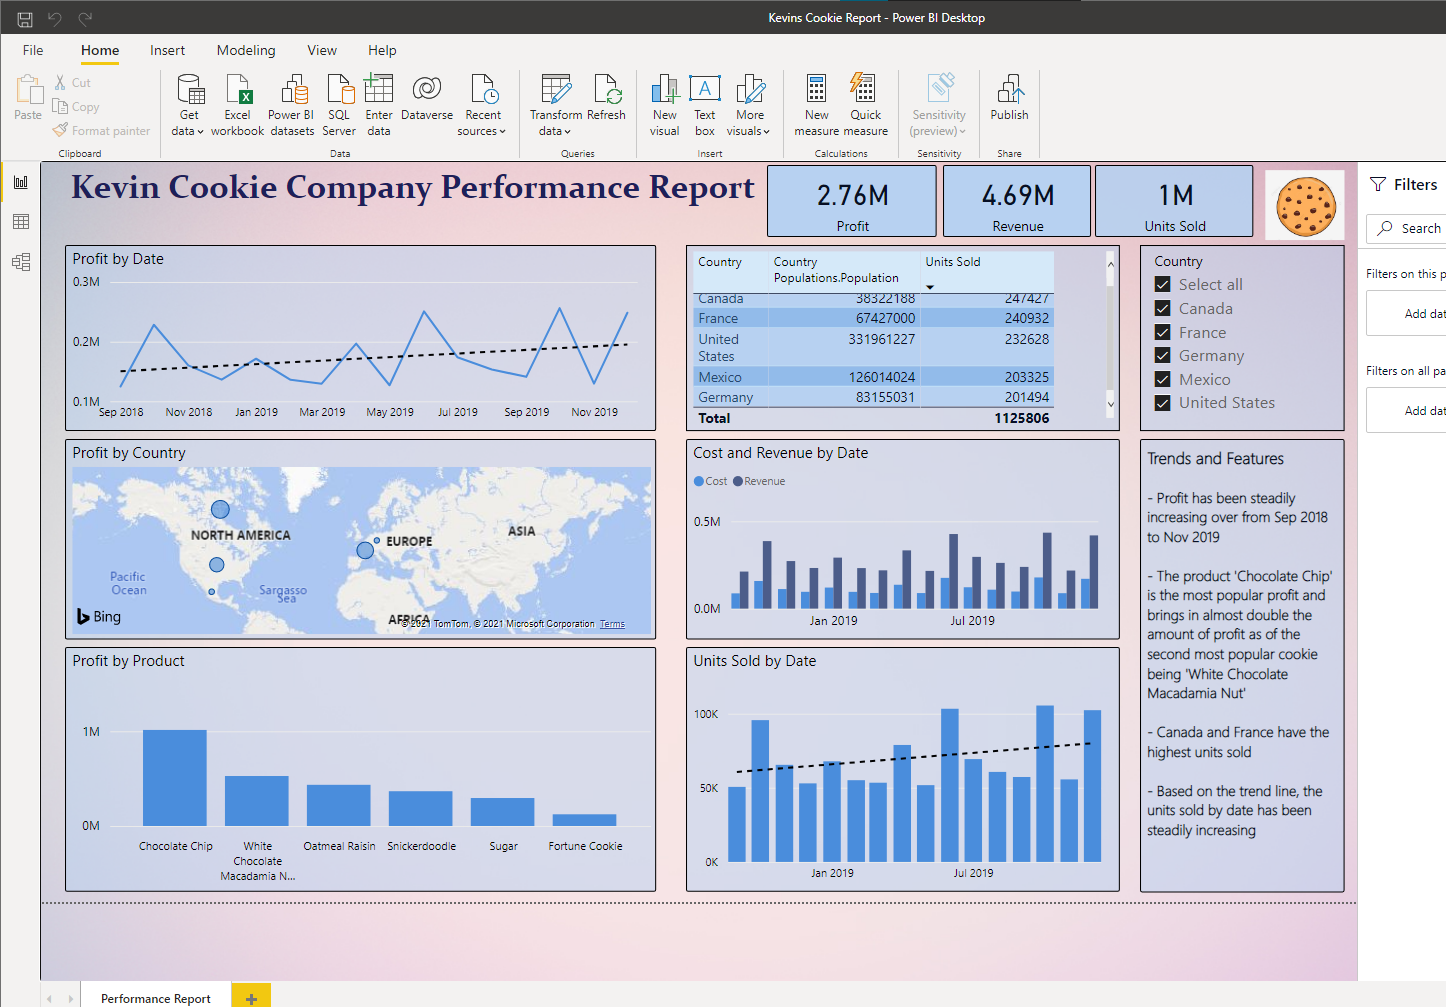

What the dashboard file says about the page in this screenshot:
{"tool":"powerbi","page":{"name":"Performance Report","canvas":[1280,720],"ordinal":0},"visuals":[{"type":"textbox","box":[23.3,0,699.3,70],"z":0},{"type":"lineChart","fields":{"Category":["Cookie Sales.Date"],"Y":["Cookie Sales.Profit"]},"box":[23.3,80.7,574.8,180.9],"z":1000},{"type":"map","fields":{"Category":["Cookie Sales.Country"],"Size":["Cookie Sales.Profit"]},"box":[23.3,269.4,574.8,194.5],"z":2000},{"type":"tableEx","fields":{"Values":["Cookie Sales.Country","Cookie Sales.Country Populations.Population","Cookie Sales.Units Sold"]},"box":[627.4,80.7,422.1,180.9],"z":3000},{"type":"clusteredColumnChart","fields":{"Category":["Cookie Sales.Product"],"Y":["Cookie Sales.Profit"]},"box":[23.3,471.7,574.8,238.3],"z":4000},{"type":"slicer","fields":{"Values":["Cookie Sales.Country"]},"box":[1068.9,80.7,199.4,180.9],"z":5000},{"type":"clusteredColumnChart","fields":{"Y":["Cookie Sales.Units Sold"],"Category":["Cookie Sales.Date"]},"box":[627.4,471.7,422.1,238.3],"z":6000},{"type":"clusteredColumnChart","fields":{"Y":["Cookie Sales.Cost","Cookie Sales.Revenue"],"Category":["Cookie Sales.Date"]},"box":[627.4,269.4,422.1,194.5],"z":7000},{"type":"textbox","box":[1068.9,269.4,199.4,440.6],"z":8000},{"type":"image","box":[1178.8,2.9,101.2,77.8],"z":9000},{"type":"card","fields":{"Values":["Cookie Sales.Profit"]},"box":[706.1,2.9,165.3,70],"z":10000},{"type":"card","fields":{"Values":["Cookie Sales.Units Sold"]},"box":[1025.2,2.9,153.7,70],"z":11000},{"type":"card","fields":{"Values":["Cookie Sales.Revenue"]},"box":[877.3,2.9,144,70],"z":12000}]}

Visuals, with their boxes on the page's 1280x720 design canvas (x1, y1, x2, y2). These are canvas units, not pixel positions in the 1446x1007 screenshot, which may show the page scaled, cropped or inside an application window:
textbox: locate(23, 0, 723, 70)
lineChart - Cookie Sales.Date x Cookie Sales.Profit: locate(23, 81, 598, 262)
map - Cookie Sales.Country x Cookie Sales.Profit: locate(23, 269, 598, 464)
tableEx - Cookie Sales.Country x Cookie Sales.Country Populations.Population: locate(627, 81, 1050, 262)
clusteredColumnChart - Cookie Sales.Product x Cookie Sales.Profit: locate(23, 472, 598, 710)
slicer - Cookie Sales.Country: locate(1069, 81, 1268, 262)
clusteredColumnChart - Cookie Sales.Units Sold x Cookie Sales.Date: locate(627, 472, 1050, 710)
clusteredColumnChart - Cookie Sales.Cost x Cookie Sales.Revenue: locate(627, 269, 1050, 464)
textbox: locate(1069, 269, 1268, 710)
image: locate(1179, 3, 1280, 81)
card - Cookie Sales.Profit: locate(706, 3, 871, 73)
card - Cookie Sales.Units Sold: locate(1025, 3, 1179, 73)
card - Cookie Sales.Revenue: locate(877, 3, 1021, 73)
